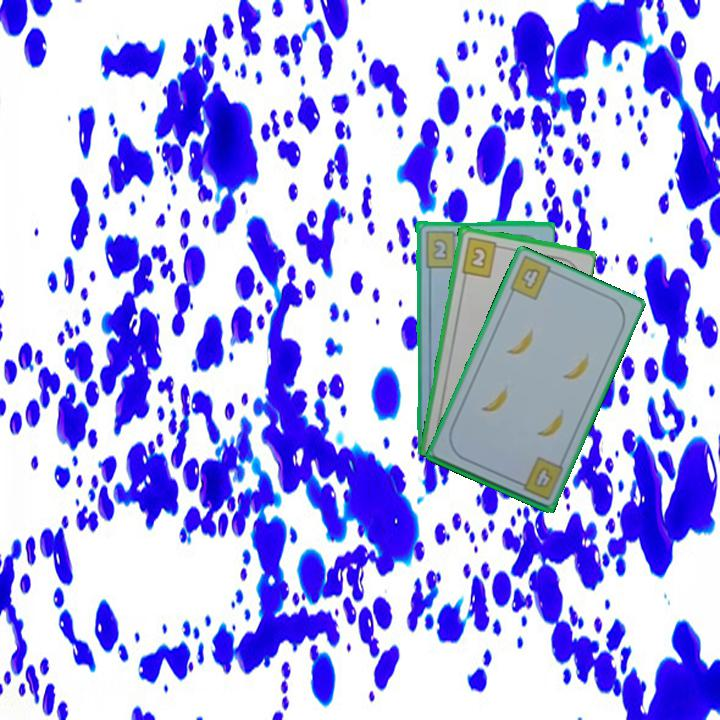2b: (458, 233, 505, 280), (422, 227, 464, 269)
4b: (512, 454, 563, 503), (518, 264, 543, 292)
